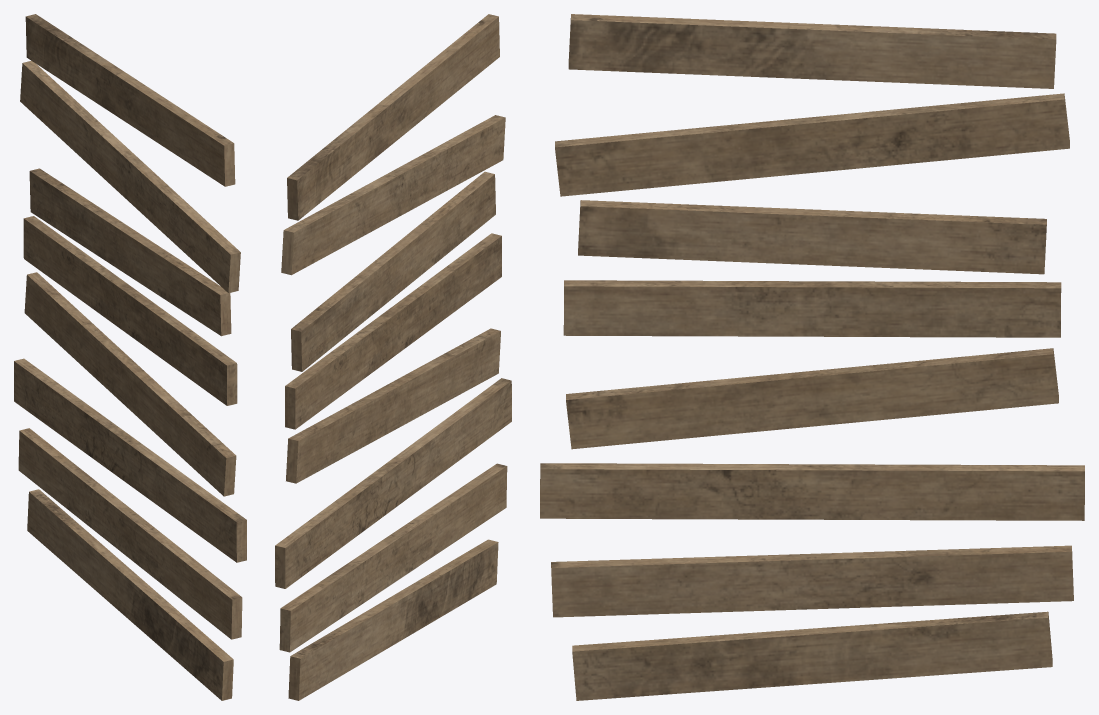
The model's file is Door_Planked.fbx.
3 renders of one model, left to right at view 1: azimuth 30°, elevation 25°; view 2: azimuth 150°, elevation 25°; view 3: azimuth 270°, elevation 25°, orthographic. The views are drawn at different scales.
Parts seen in each view (by area): view 1: Cube.017; view 2: Cube.017; view 3: Cube.017.
Boxes of the visible parts, x1=… form: Cube.017: x1=14, y1=14, x2=246, y2=700; Cube.017: x1=275, y1=14, x2=511, y2=700; Cube.017: x1=540, y1=14, x2=1084, y2=700.
Bounding box in the file's own units: 2.71 × 142 × 103.
